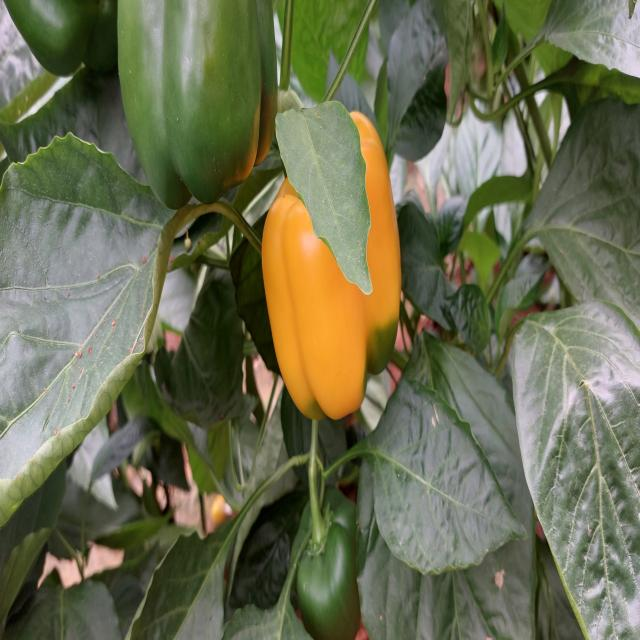Green--Not-ready-to-harvest: (114, 0, 277, 207)
GreenishYellow--Can-be-Harvested: (254, 98, 416, 435)
